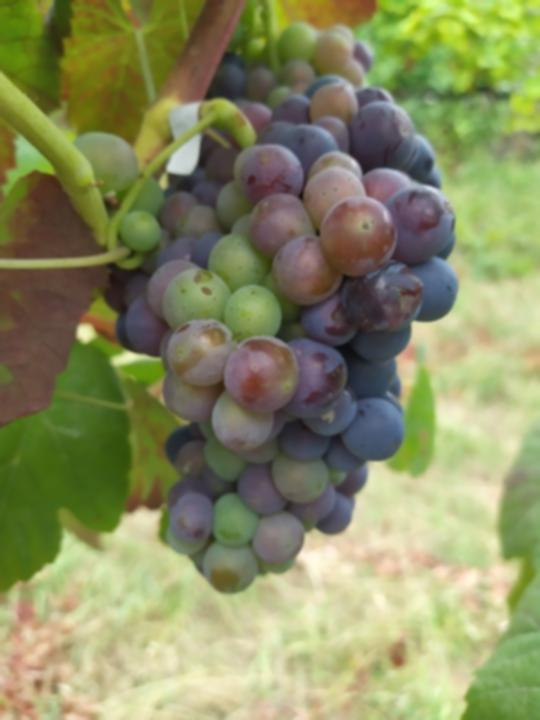grape: (120, 80, 464, 597)
